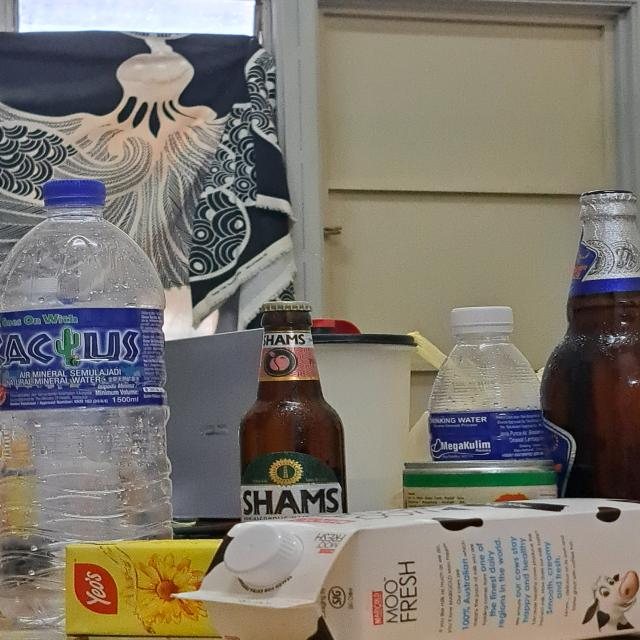can: (399, 462, 558, 506)
drink carton: (183, 499, 640, 640), (58, 536, 244, 638)
glass bottle: (547, 190, 640, 512), (235, 301, 351, 533)
plastic bottle: (0, 208, 183, 625), (425, 330, 557, 486)
plastic bottle cap: (217, 522, 310, 592), (453, 305, 516, 334), (41, 178, 102, 205)
